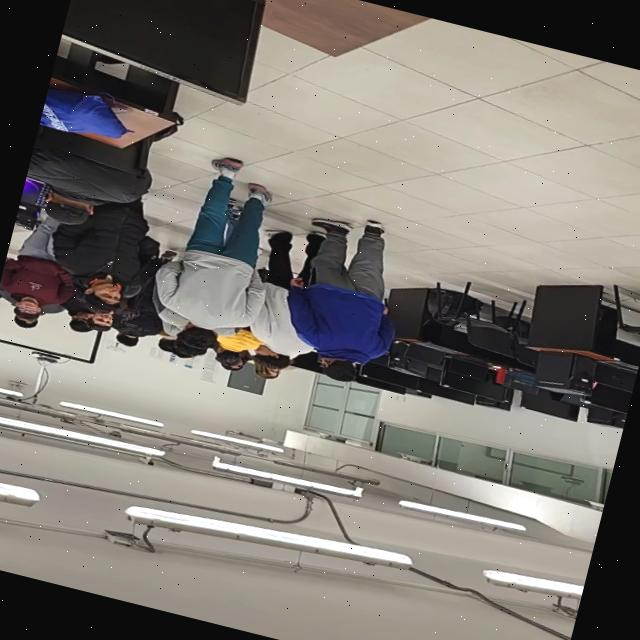Persona: (265, 203, 426, 396), (147, 147, 291, 360), (232, 224, 338, 376), (60, 198, 174, 318), (0, 212, 83, 330)
